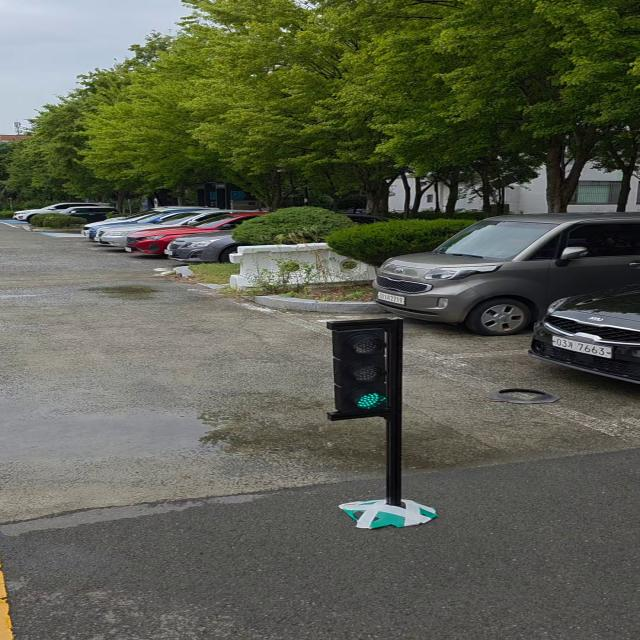green: (334, 322, 404, 418)
